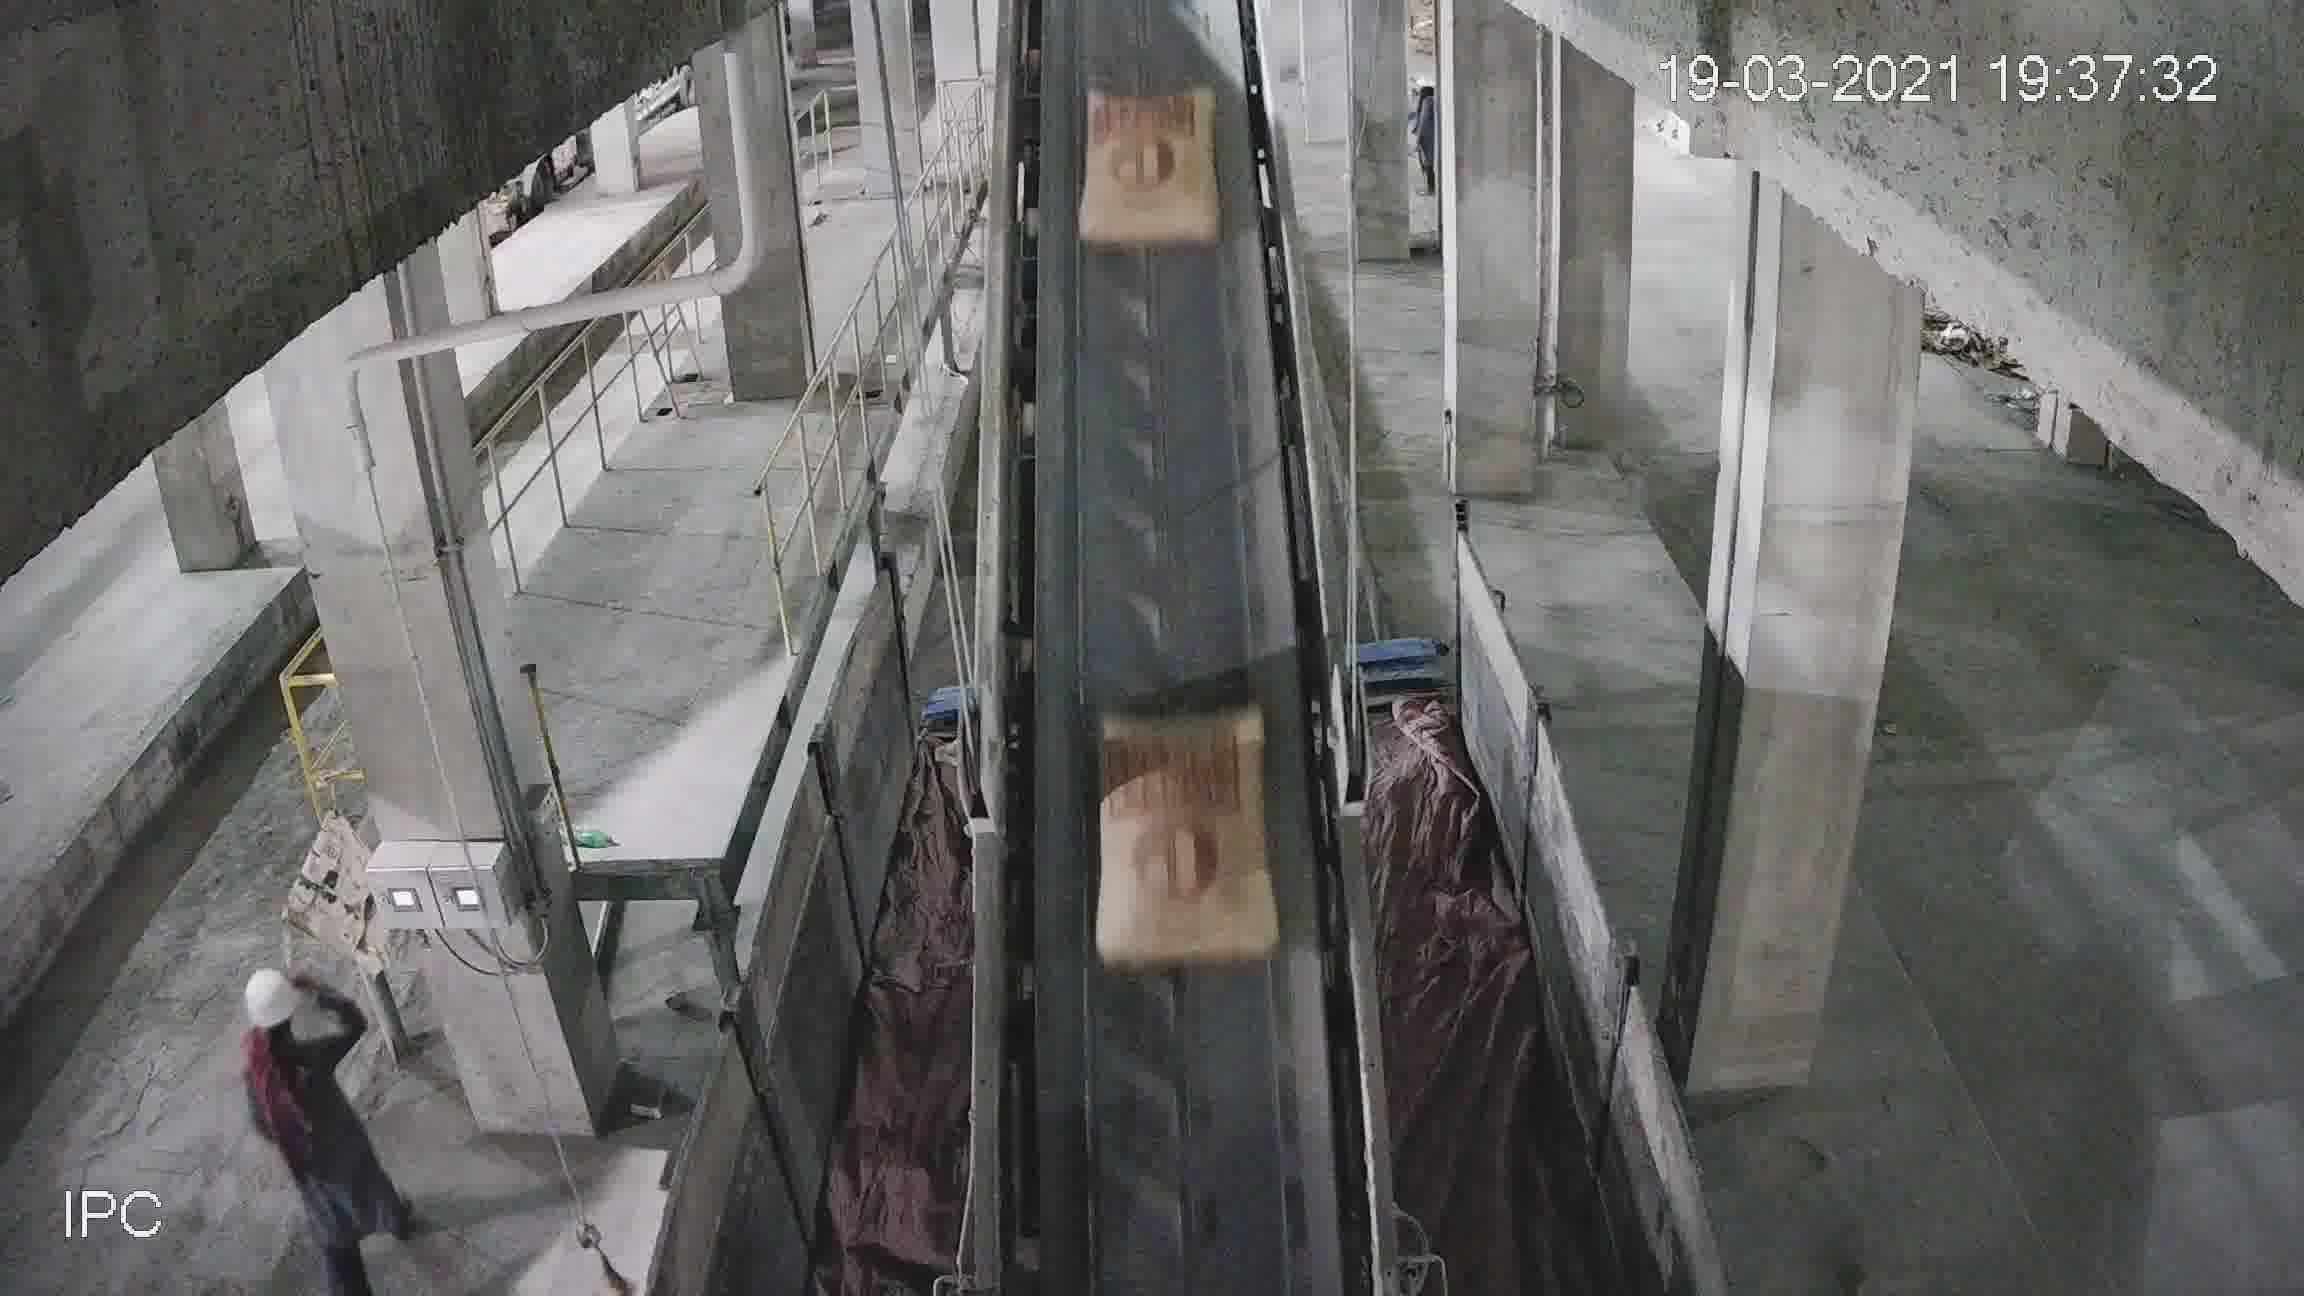bag: (1097, 715, 1282, 983), (1086, 95, 1215, 248)
belt: (975, 133, 1393, 1296)
